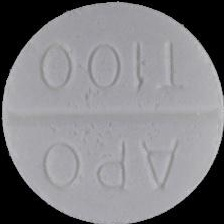60429-188: (0, 0, 224, 224)
